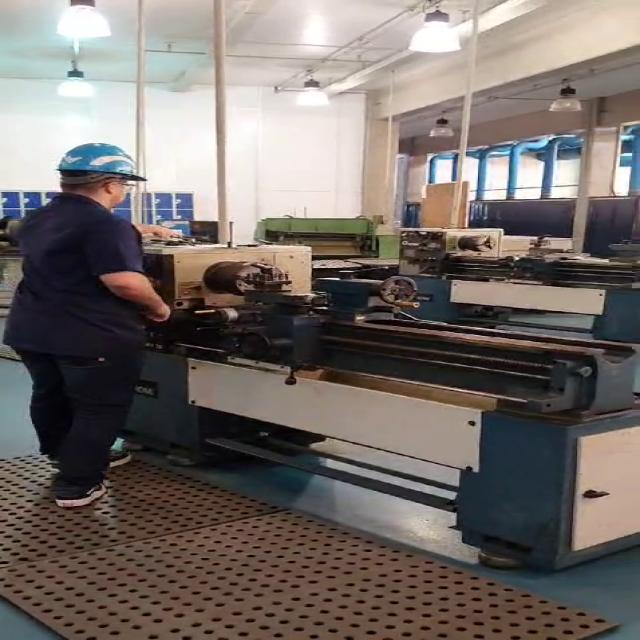oculos-epi: (96, 174, 142, 198)
